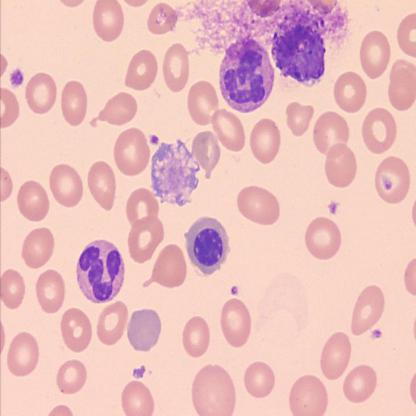NRC: (182, 214, 232, 278)
